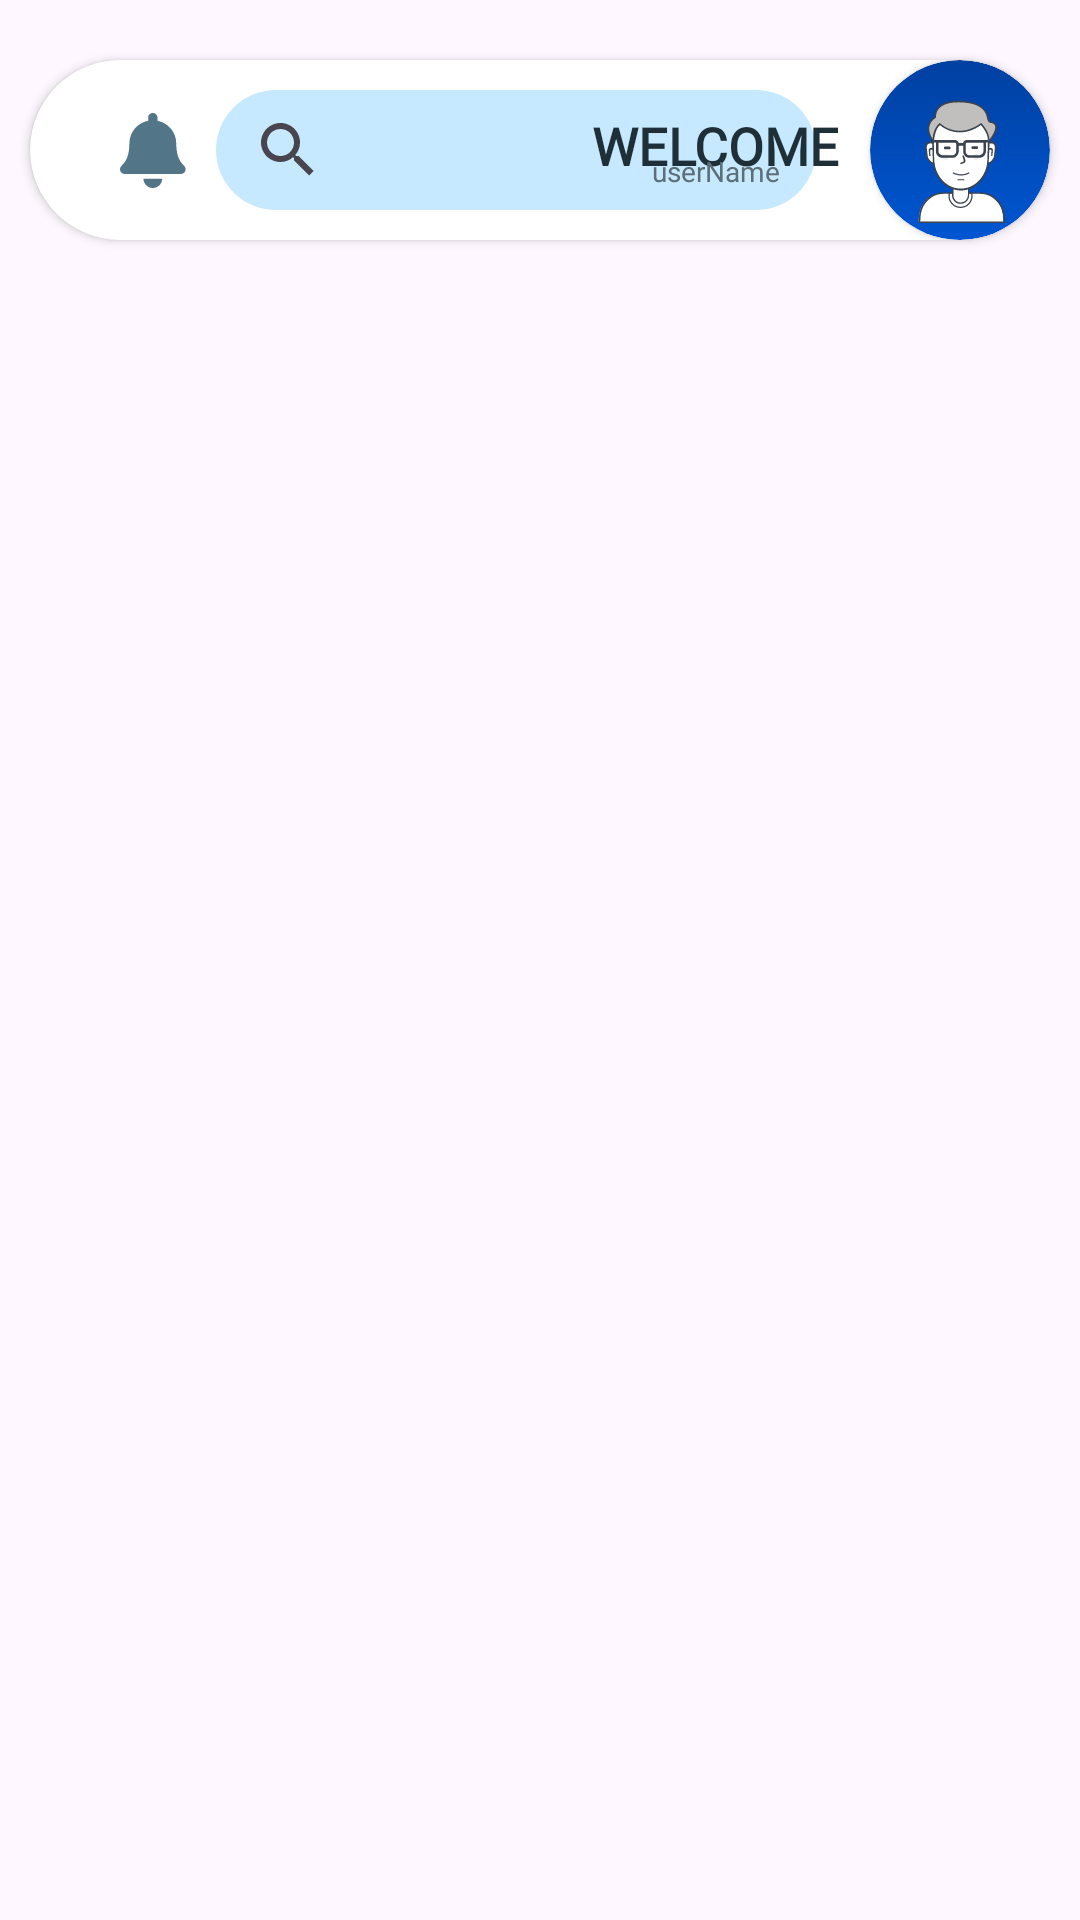

Icon bounding boxes for this 1080w x 1920h phone screenshot, format bbox=[x1, y1, x2, y2]:
bell: bbox=[120, 113, 186, 188]
user profile: bbox=[870, 60, 1050, 240]
